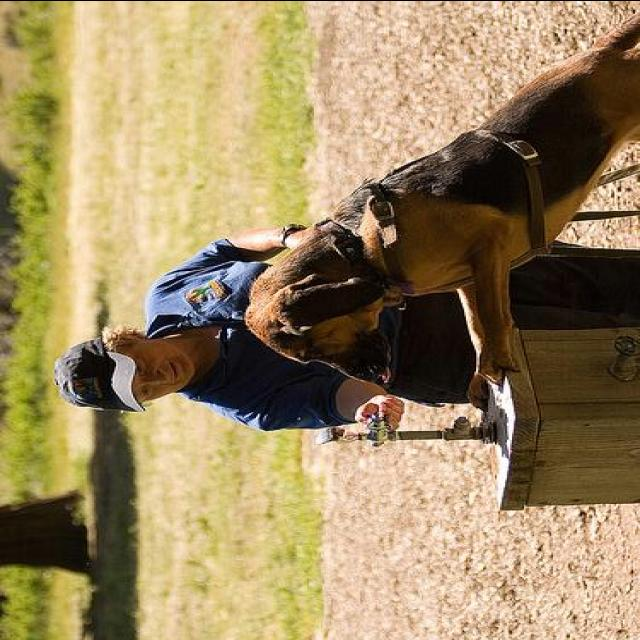bloodhound: (236, 9, 636, 415)
